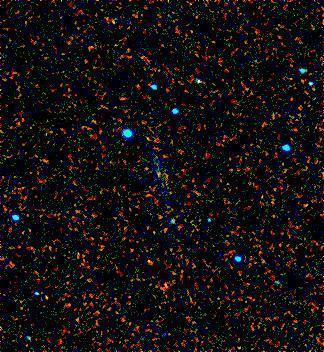star: (144, 152, 174, 182)
